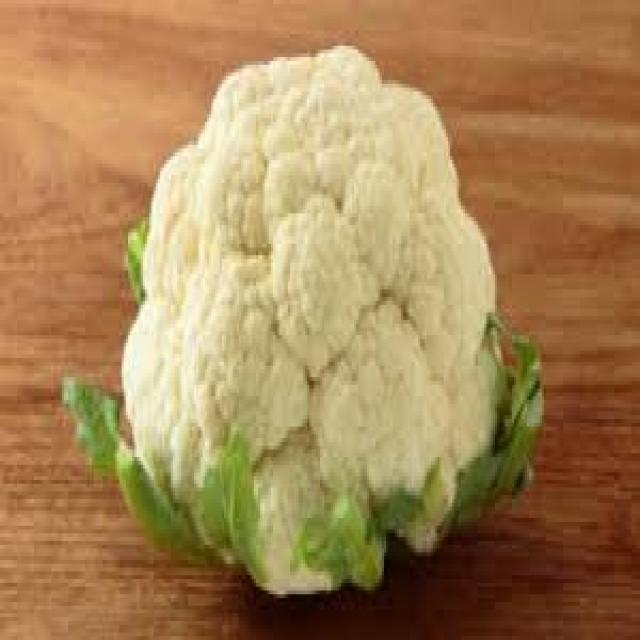organic waste: (64, 38, 542, 602)
